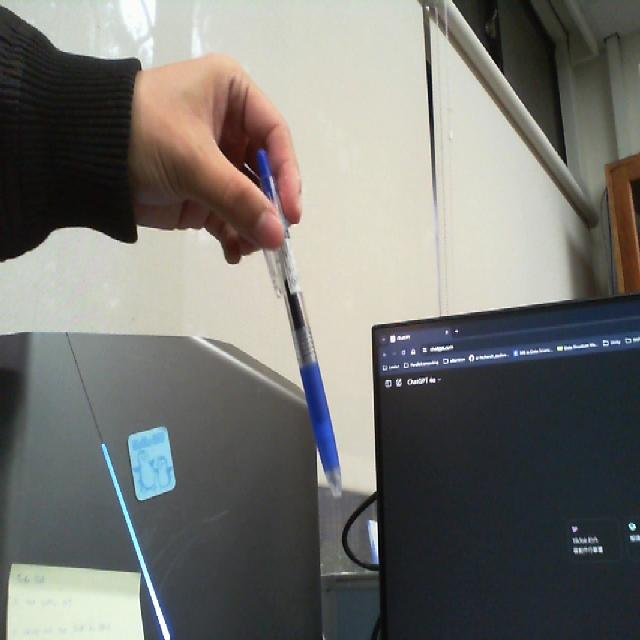Pen: (247, 153, 347, 506)
